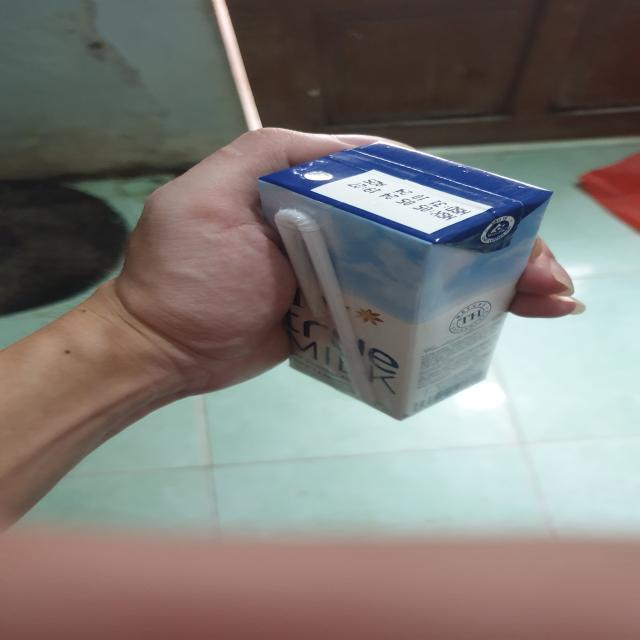TH: (254, 141, 554, 422)
